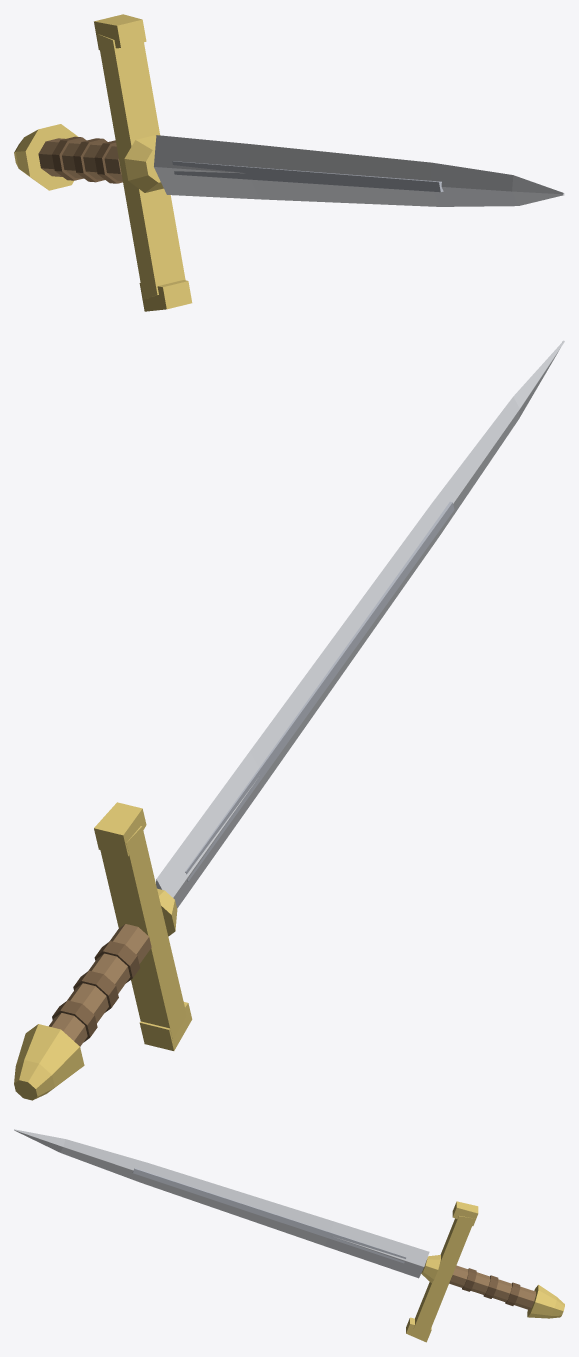
File: weapon_longsword.glb
3 renders of one model, top to bottom at view 1: azimuth 30°, elevation 25°; view 2: azimuth 150°, elevation 25°; view 3: azimuth 270°, elevation 25°, orthographic. The views are drawn at different scales.
Visible parts, largest first — view 1: Longsword; view 2: Longsword; view 3: Longsword.
Boxes of the visible parts, x1,y1,x2,y2 form: Longsword: (14, 14, 564, 311); Longsword: (14, 340, 564, 1100); Longsword: (14, 1129, 564, 1342).
Size of the model in its own units: 0.0554 by 0.4 by 0.9532.
